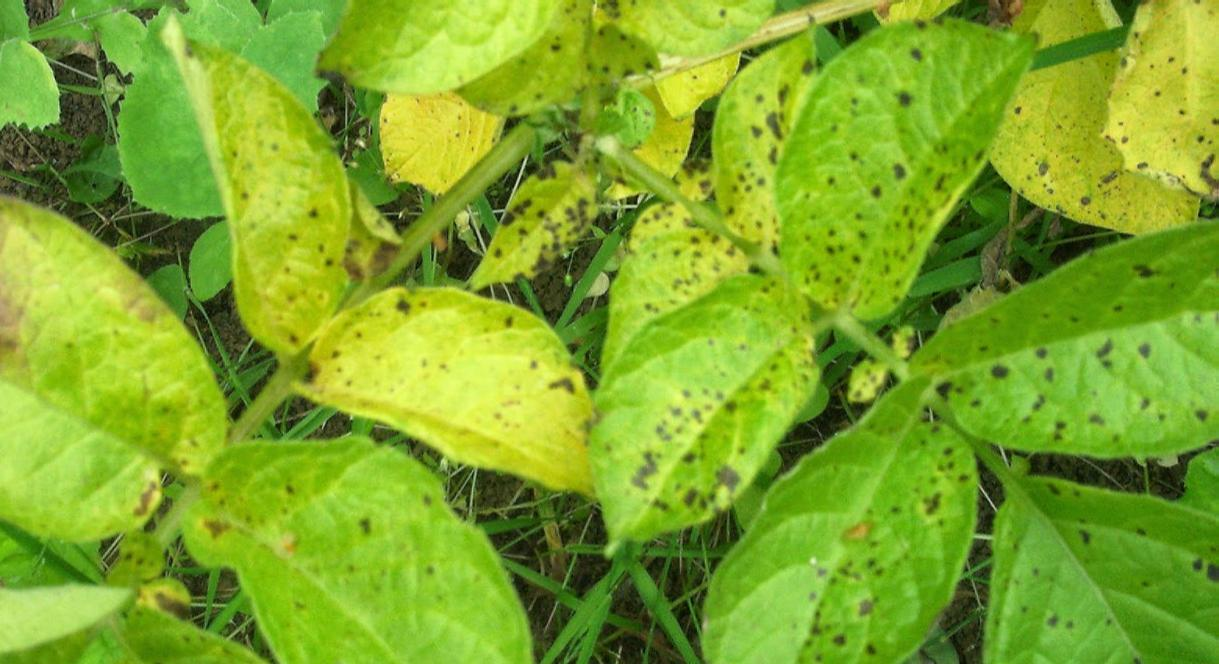Tomato Septoria leaf spot: (761, 0, 1017, 382), (683, 353, 967, 664), (184, 431, 560, 664), (926, 214, 1219, 466), (599, 253, 824, 563), (173, 32, 361, 380), (311, 285, 625, 492), (459, 147, 626, 293), (1098, 0, 1219, 198)
